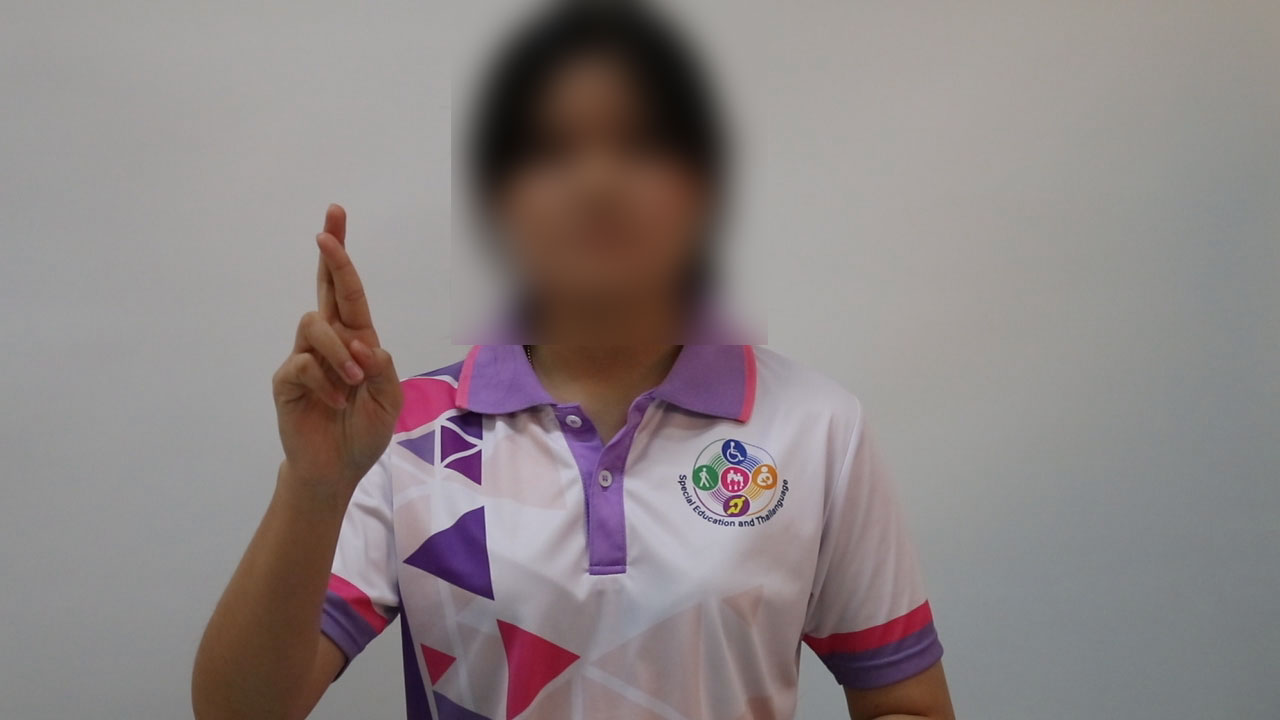rao: (241, 199, 409, 495)
